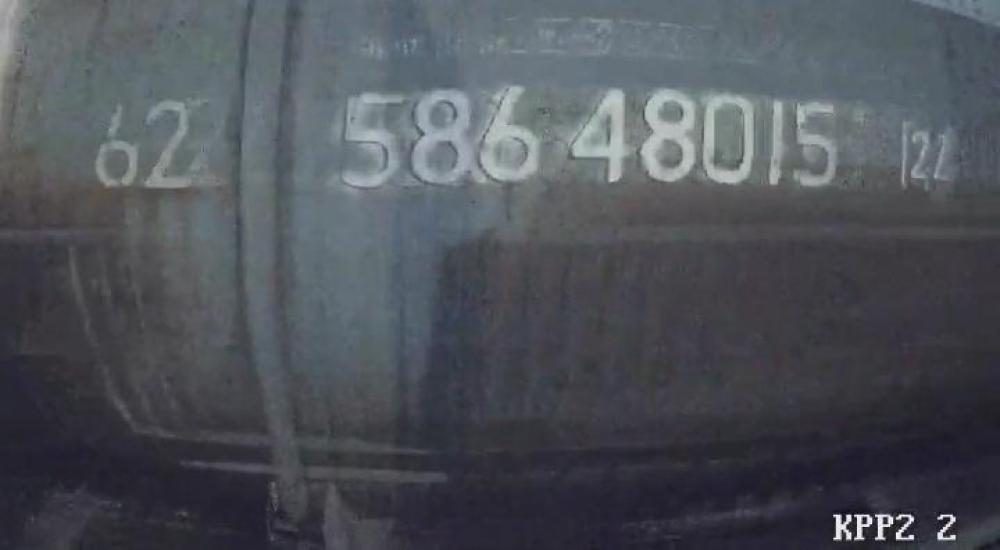Wagon-number: (339, 80, 841, 198)
